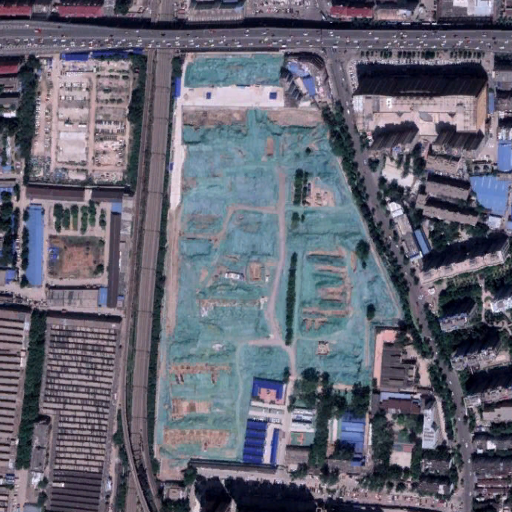cw: (156, 106, 402, 479), (183, 54, 283, 87)
